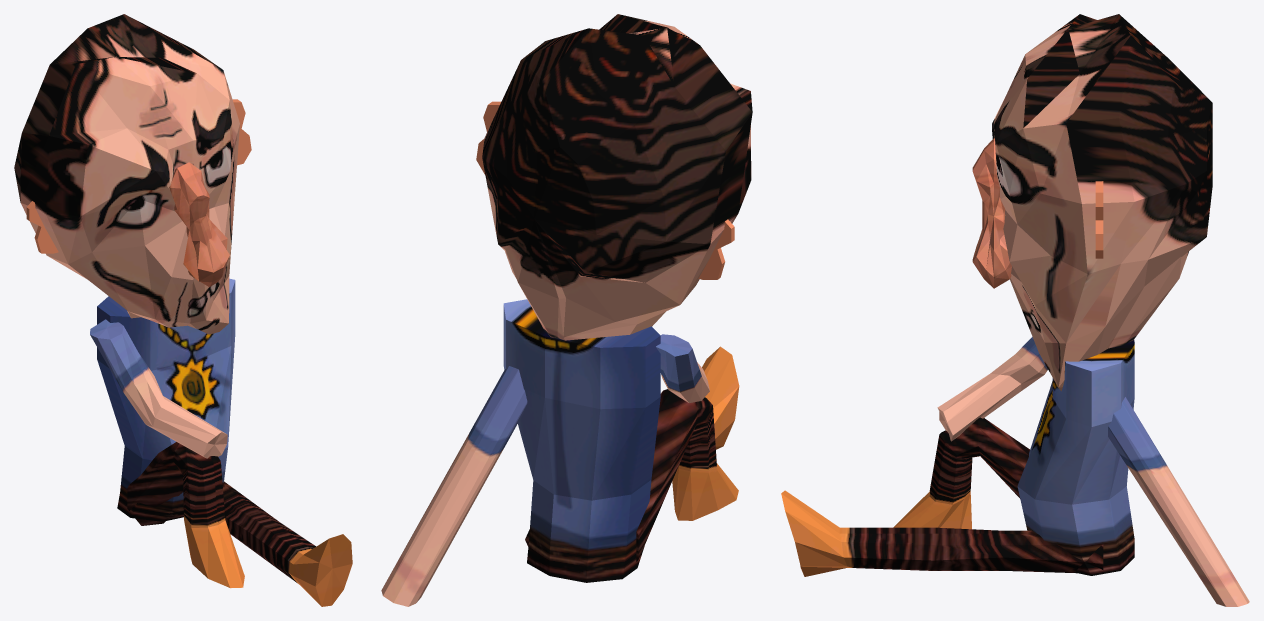
Rendered from Shos.glb.
3 renders of one model, left to right at view 1: azimuth 30°, elevation 25°; view 2: azimuth 150°, elevation 25°; view 3: azimuth 270°, elevation 25°, orthographic. The views are drawn at different scales.
Visible parts, largest first — view 1: Shos; view 2: Shos; view 3: Shos.
Part boxes in pixels (left/top/right/bottom): Shos: left=14, top=14, right=352, bottom=606; Shos: left=381, top=14, right=752, bottom=606; Shos: left=781, top=14, right=1249, bottom=606.
Bounding box in the file's own units: 311 × 616 × 502.
Materials: 1 (1 with a texture image).
